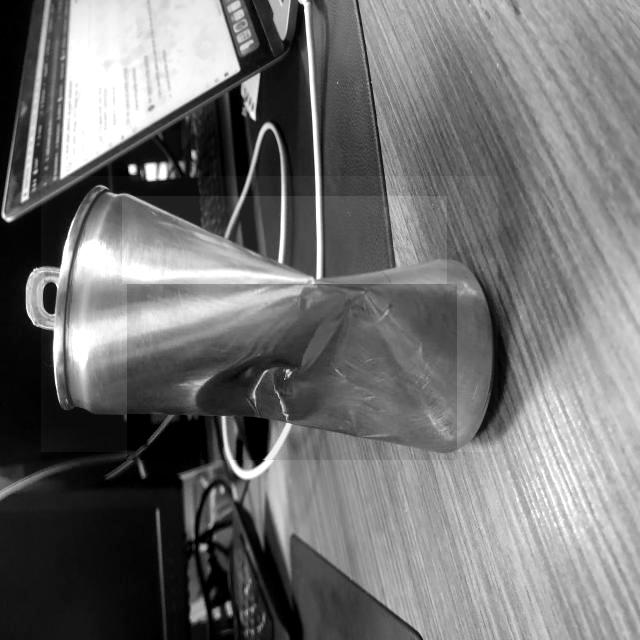deform: (128, 285, 457, 460), (122, 196, 447, 284)
metal: (41, 176, 498, 452)
